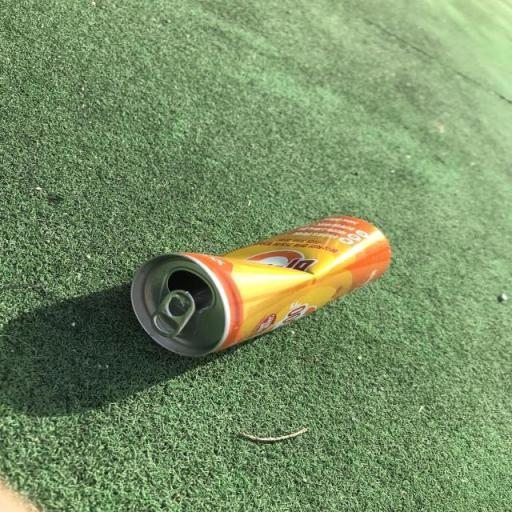metal: (105, 182, 404, 380)
